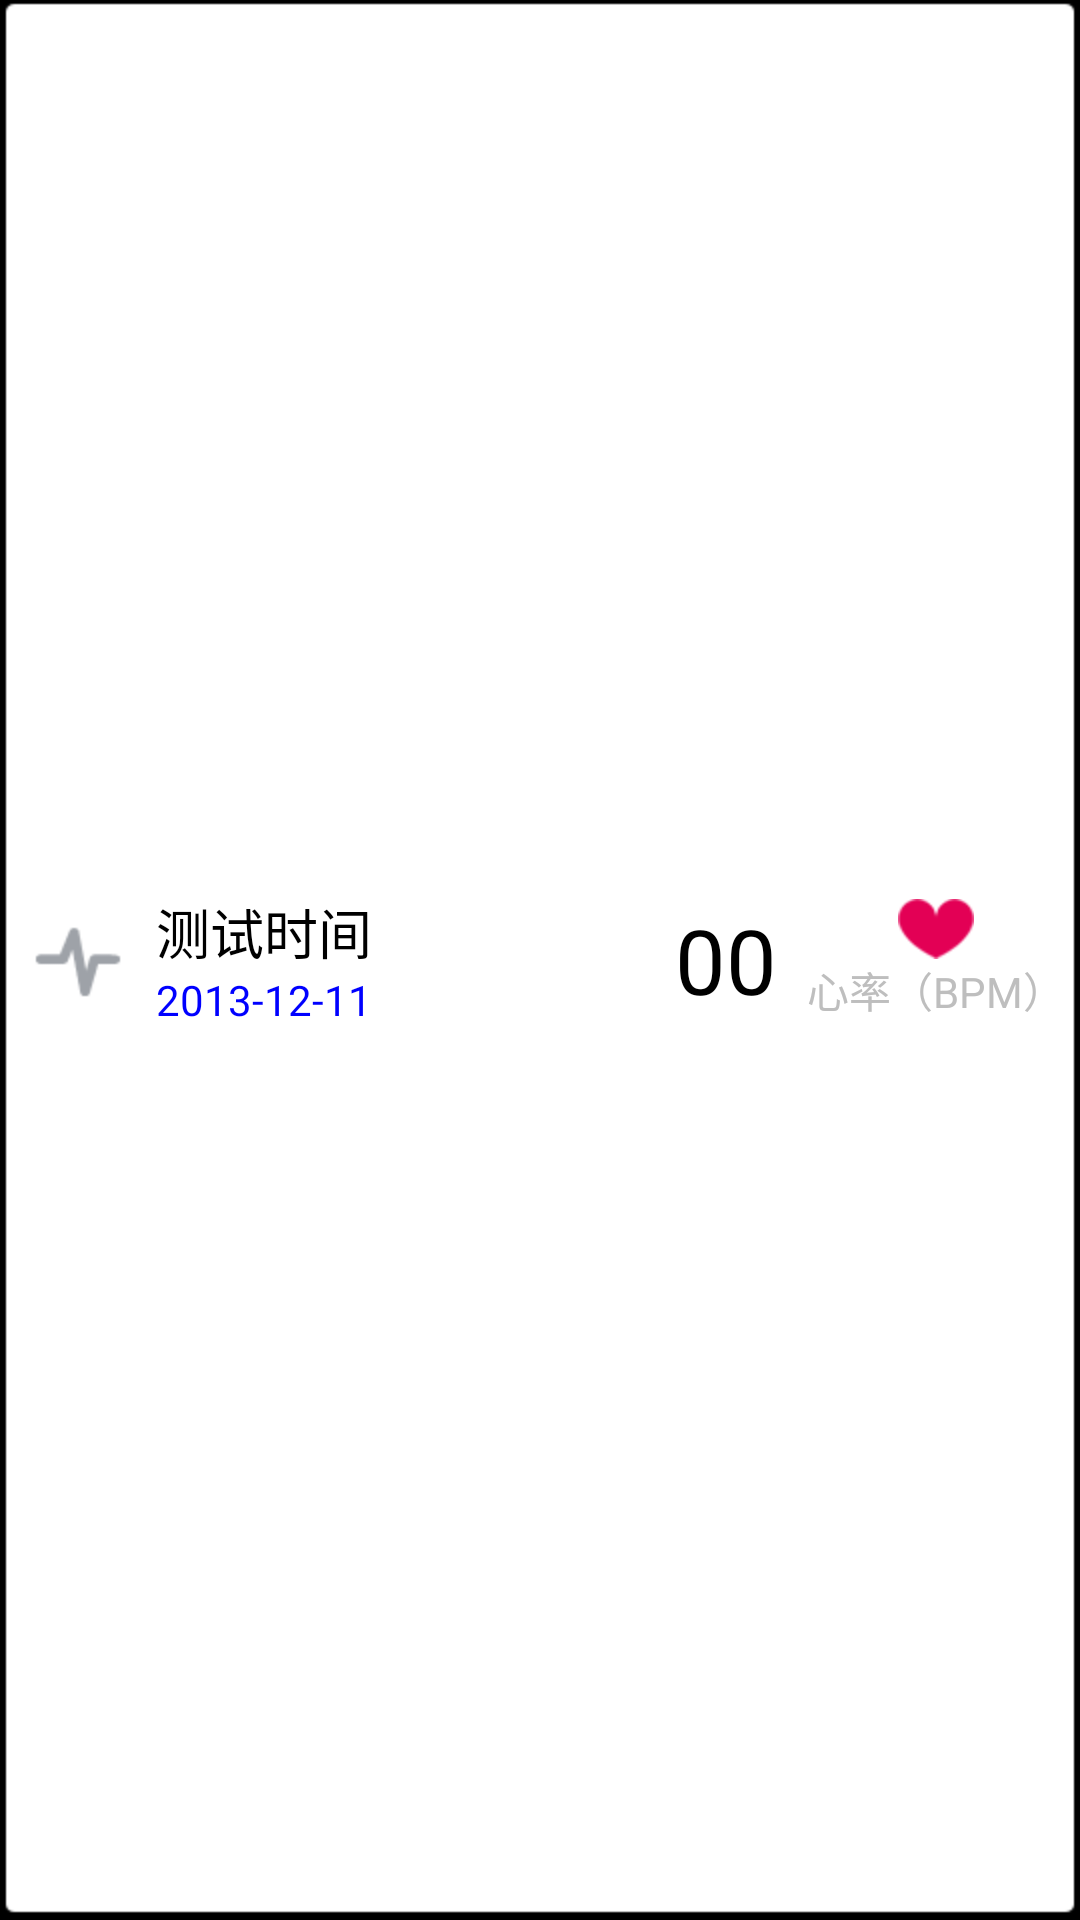

Icons on this 1080px x 1920px Android screen, each with its box as (x1, y1, x2, y2):
heart: (898, 899, 974, 959)
